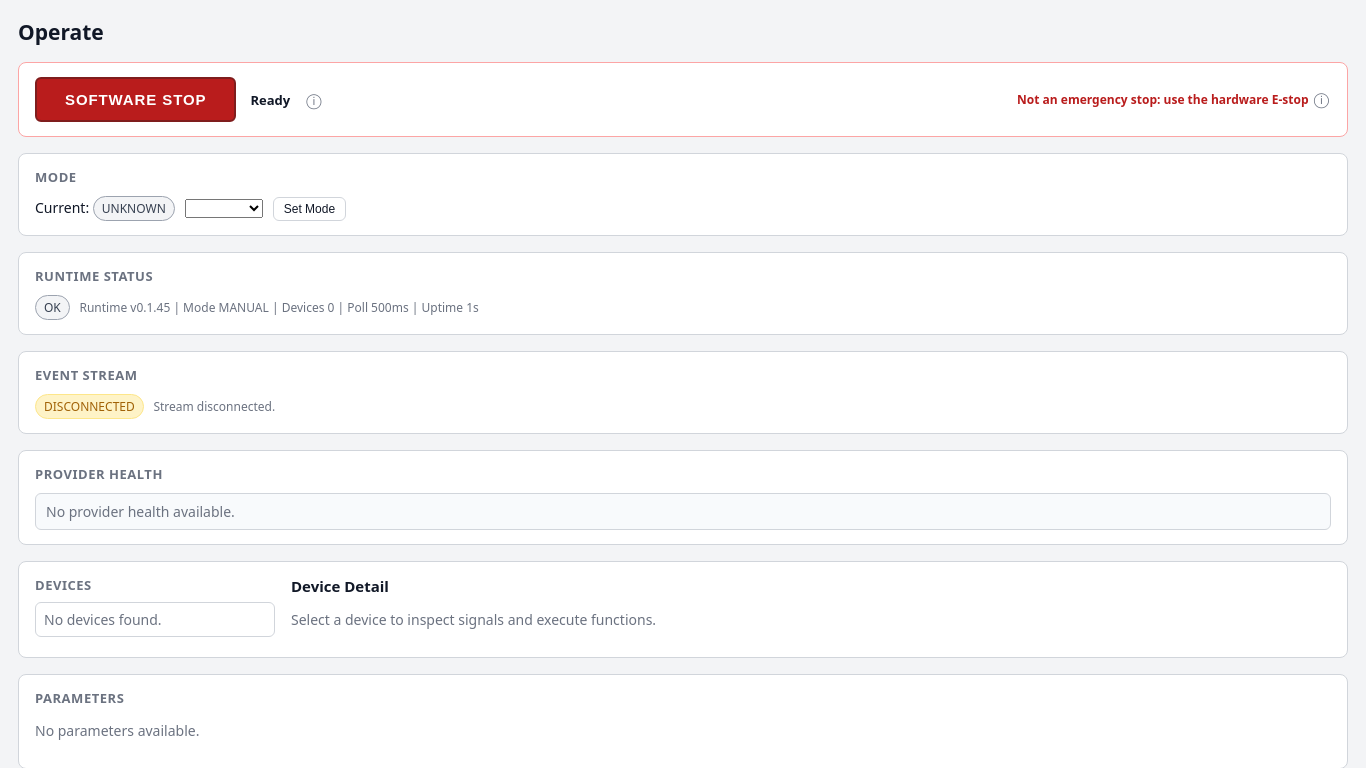
Test: Operate.svelte — the safe-state note (#346) › at runtime 0.1.45, where the count is what the active rung will not drive › under setpoints with 0 undriven, shows its note and no count line
Expected: the text with test id "estop-state" does not show "Loading", [250,90,290,108]
What coordinates should you click on to do the following:
click the button named "About "
I would click on:
 (314, 100)
Its box is [304,92,324,107].
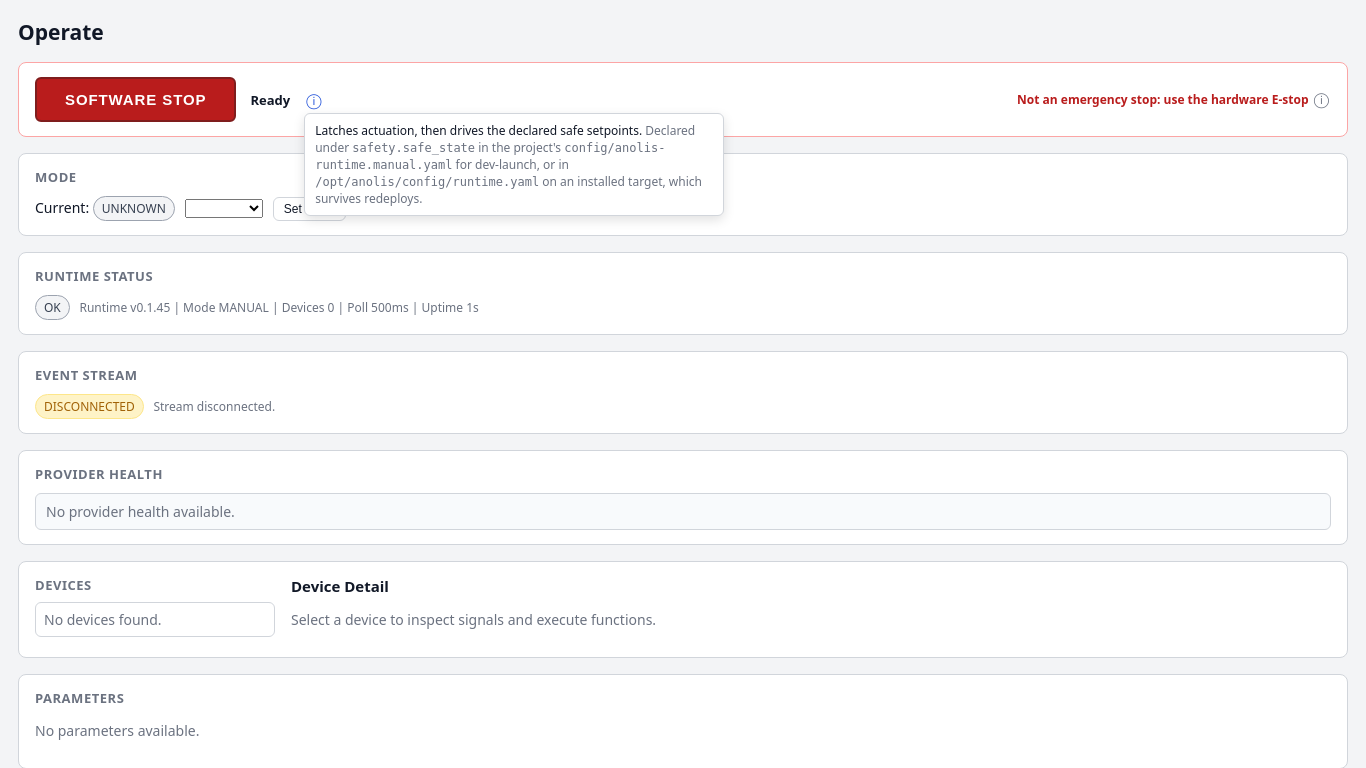
Expected: the text "Latches actuation, then drives the declared safe setpoints" is shown, [315,122,642,139]
